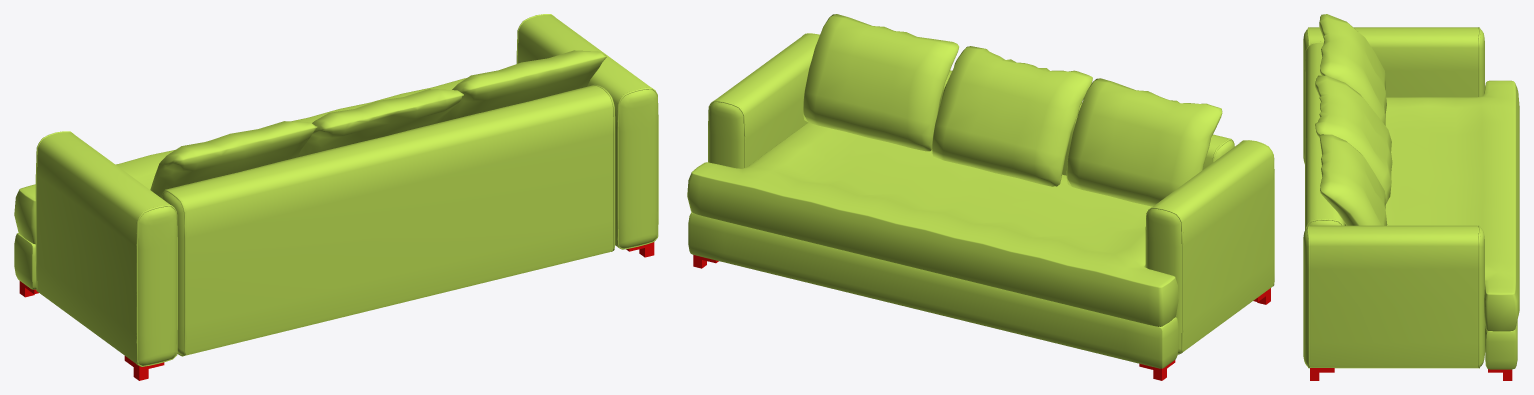
The model's file is Sofa2.FBX.
3 views of the same model, side by side, from view 1: azimuth 30°, elevation 25°; view 2: azimuth 150°, elevation 25°; view 3: azimuth 270°, elevation 25° (orthographic). The views are drawn at different scales.
Visible parts, largest first — view 1: Sofa003; view 2: Sofa003; view 3: Sofa003.
Boxes of the visible parts, bbox=[...] form: Sofa003: bbox=[14, 14, 658, 380]; Sofa003: bbox=[687, 14, 1274, 380]; Sofa003: bbox=[1303, 14, 1519, 380].
Bounding box in the file's own units: 221 × 83.76 × 93.36.
